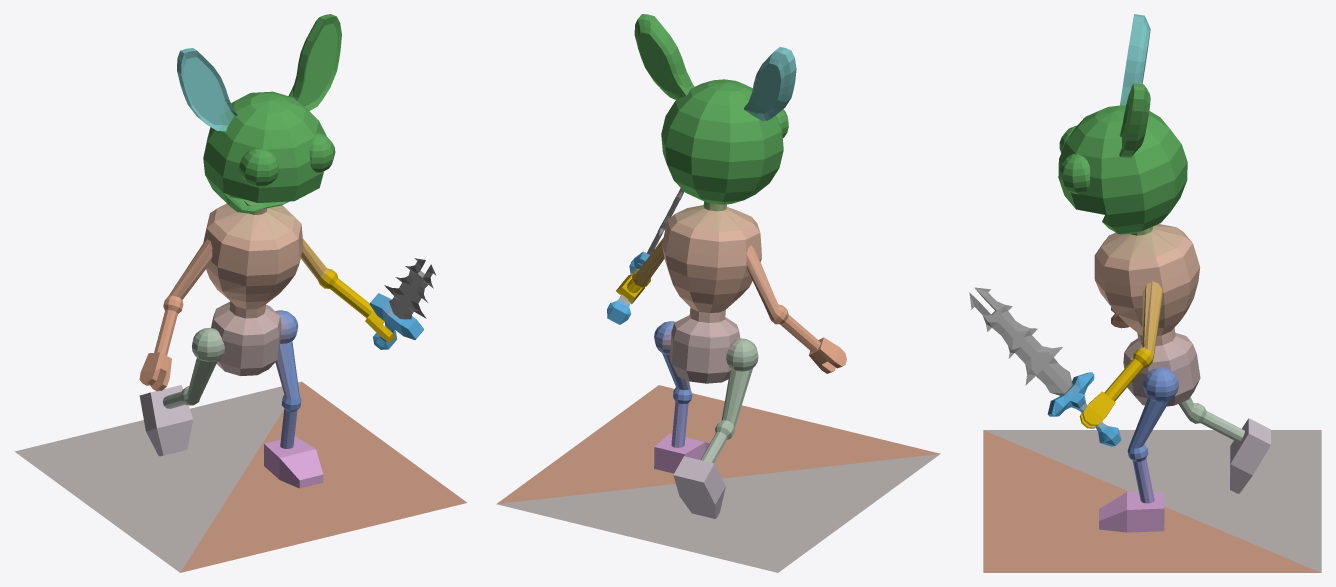
3 views of the same model, side by side, from view 1: azimuth 30°, elevation 25°; view 2: azimuth 150°, elevation 25°; view 3: azimuth 270°, elevation 25° (orthographic). The views are drawn at different scales.
Parts seen in each view (by area): view 1: world; view 2: world; view 3: world.
Part boxes in pixels (bbox=[...]): world: bbox=[14, 14, 467, 572]; world: bbox=[496, 14, 940, 572]; world: bbox=[969, 14, 1321, 572].
Size of the model in its own units: 0.6712 by 1 by 0.6988.
